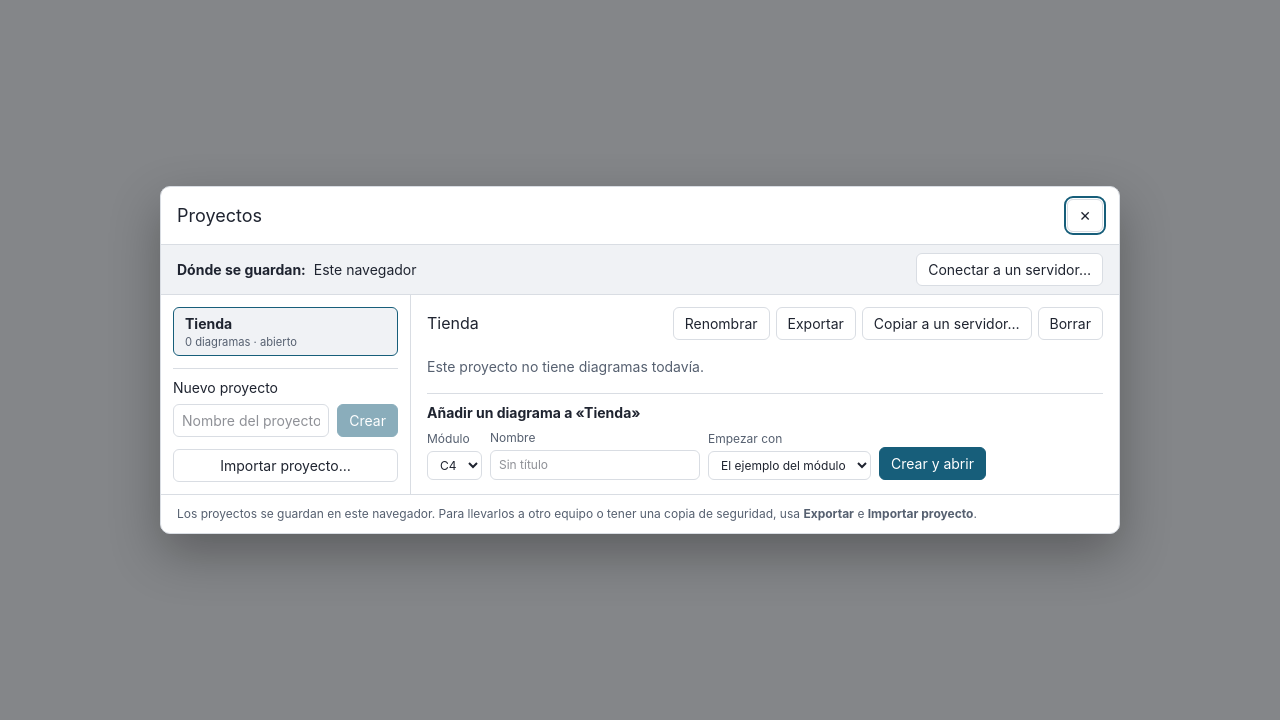
Test: gestor de proyectos con el almacén en la nube › con los proyectos en este navegador › «Copiar a un servidor…» sin servidor conocido lleva al formulario de conexión, que ofrece copiar ese proyecto
The width and height of the screenshot is (1280, 720).
Click the button "Copiar a un servidor…": click(947, 323) [862,307,1032,340]
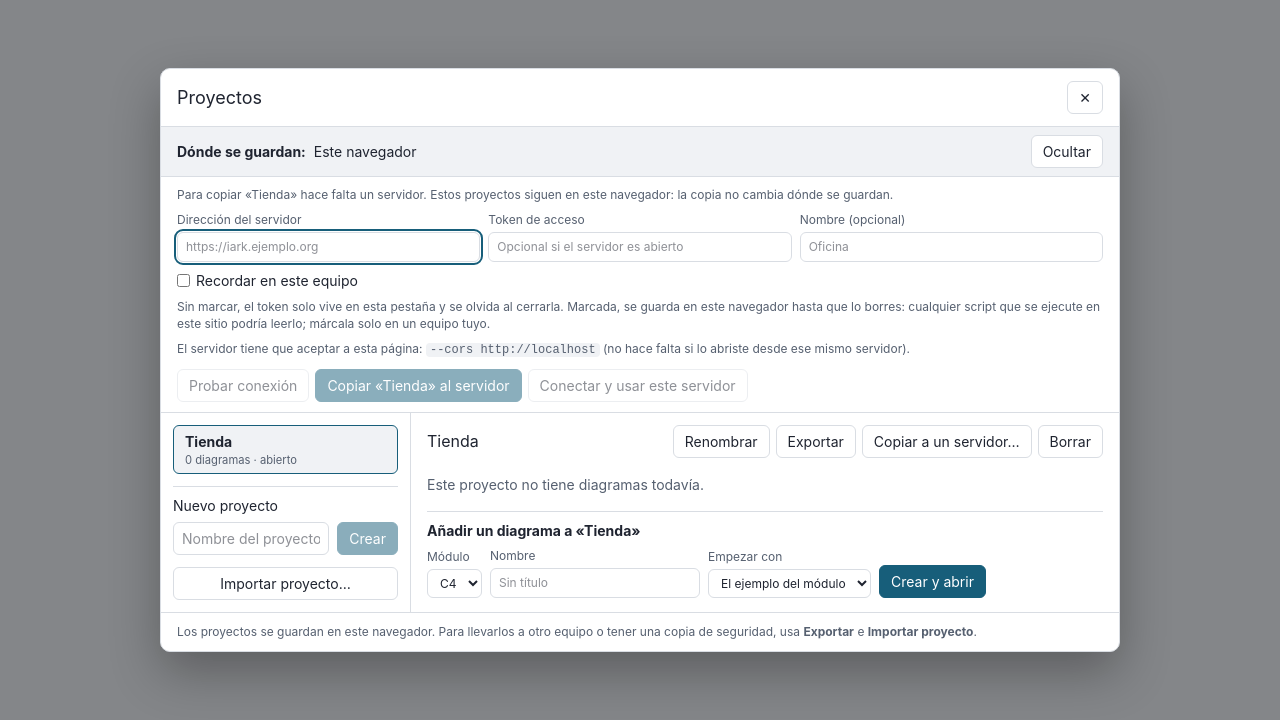
Expected: the form named "Conectar a un servidor" is shown, [161,176,1119,402]
Expected: the button "Copiar «Tienda» al servidor" is shown, [315,369,522,402]
